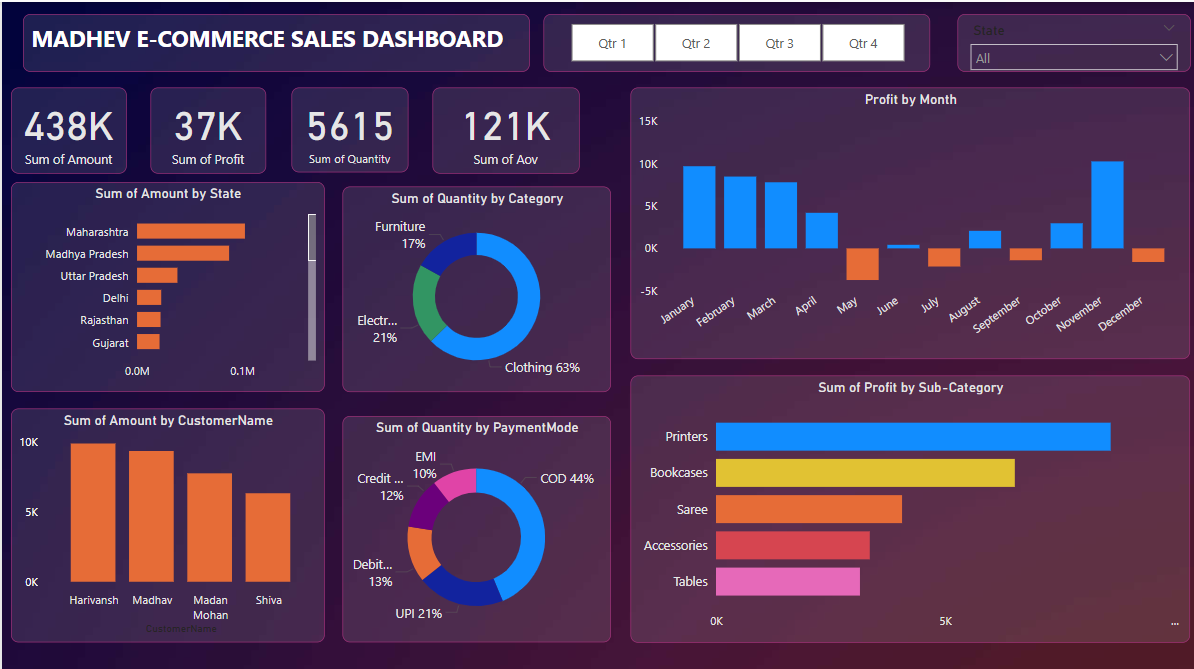

What the dashboard file says about the page in this screenshot:
{"tool":"powerbi","page":{"name":"Page 1","canvas":[1280,720],"ordinal":0},"visuals":[{"type":"textbox","box":[22.9,12.9,537.1,61.4],"z":0},{"type":"columnChart","title":"Profit by Month","fields":{"Y":["Details.Profit"],"Category":["Orders.Order Date.Variation.Date Hierarchy.Month"]},"box":[666.5,90.7,593.3,287.9],"z":1000},{"type":"barChart","fields":{"Category":["Details.Sub-Category"],"Y":["Details.Profit"]},"box":[666.5,396.1,593.3,283.1],"z":2000},{"type":"donutChart","fields":{"Category":["Details.Category"],"Y":["Details.Quantity"]},"box":[369,195.6,270.4,217.9],"z":3000},{"type":"donutChart","fields":{"Y":["Details.Quantity"],"Category":["Details.PaymentMode"]},"box":[361.1,439,284.7,240.2],"z":4000},{"type":"card","fields":{"Values":["Details.Amount"]},"box":[10,91.4,122.9,91.4],"z":5000},{"type":"card","fields":{"Values":["Details.Quantity"]},"box":[307.1,91.4,124.3,90],"z":6000},{"type":"card","fields":{"Values":["Details.Profit"]},"box":[157.1,91.4,122.9,91.4],"z":7000},{"type":"card","fields":{"Values":["Details.Aov"]},"box":[457.1,90,155.7,91.4],"z":8000},{"type":"barChart","fields":{"Category":["Orders.State"],"Y":["Details.Amount"]},"box":[9.5,190.9,332.4,222.7],"z":9000},{"type":"columnChart","fields":{"Category":["Orders.CustomerName"],"Y":["Details.Amount"]},"box":[9.5,431.1,332.4,248.1],"z":10000},{"type":"slicer","fields":{"Values":["Orders.Order Date.Variation.Date Hierarchy.Quarter"]},"box":[574.3,12.9,410,61.4],"z":11000},{"type":"slicer","fields":{"Values":["Orders.State"]},"box":[1012.9,12.9,247.1,61.4],"z":12000}]}

Visuals, with their boxes in screenshot pixels (x1, y1, x2, y2), scaled from the page's 1280x720 canvas onto the 1194x669 screenshot:
textbox: 21, 12, 522, 69
"Profit by Month" columnChart: 622, 84, 1175, 352
barChart - Details.Sub-Category x Details.Profit: 622, 368, 1175, 631
donutChart - Details.Category x Details.Quantity: 344, 182, 596, 384
donutChart - Details.Quantity x Details.PaymentMode: 337, 408, 602, 631
card - Details.Amount: 9, 85, 124, 170
card - Details.Quantity: 286, 85, 402, 169
card - Details.Profit: 147, 85, 261, 170
card - Details.Aov: 426, 84, 572, 169
barChart - Orders.State x Details.Amount: 9, 177, 319, 384
columnChart - Orders.CustomerName x Details.Amount: 9, 401, 319, 631
slicer - Orders.Order Date.Variation.Date Hierarchy.Quarter: 536, 12, 918, 69
slicer - Orders.State: 945, 12, 1175, 69
